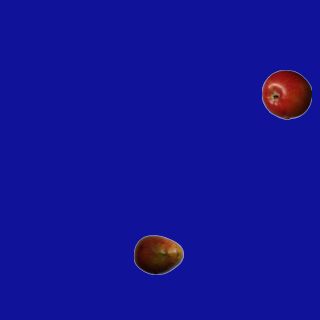Apple Braeburn: (261, 69, 311, 119)
Mango Red: (133, 229, 183, 279)
